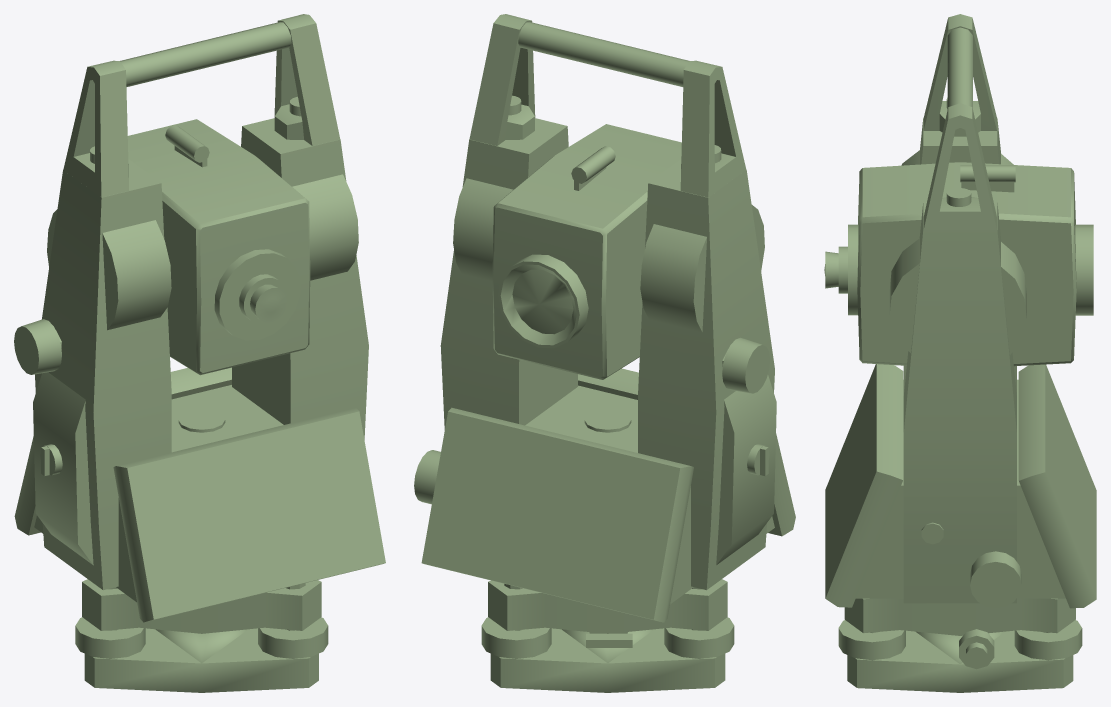
Rendered from Leica180.FBX.
3 renders of one model, left to right at view 1: azimuth 30°, elevation 25°; view 2: azimuth 150°, elevation 25°; view 3: azimuth 270°, elevation 25°, orthographic. The views are drawn at different scales.
Visible parts, largest first — view 1: upper_body, telescope, tribrach; view 2: upper_body, telescope, tribrach; view 3: upper_body, telescope, tribrach.
Boxes of the visible parts, box(x1,y1,x2,y2) form: upper_body: box(14, 14, 385, 622); telescope: box(127, 119, 310, 375); tribrach: box(75, 579, 328, 692); upper_body: box(414, 14, 795, 622); telescope: box(492, 124, 681, 379); tribrach: box(481, 579, 734, 692); upper_body: box(825, 14, 1096, 608); telescope: box(824, 162, 1093, 366); tribrach: box(838, 598, 1082, 692).
Bounding box in the file's own units: 19.58 × 14.75 × 35.49.
